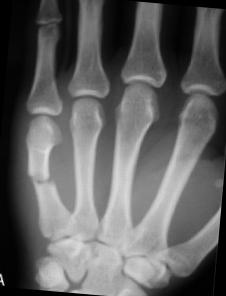fracture: (25, 170, 57, 192)
